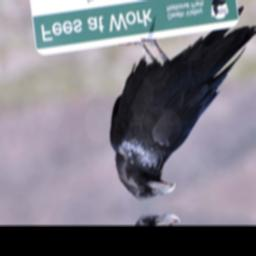Crow: (96, 2, 256, 205)
